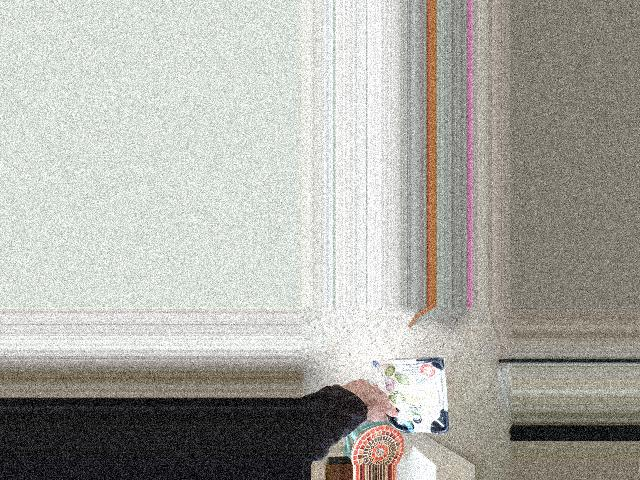cheese: (349, 347, 445, 442)
